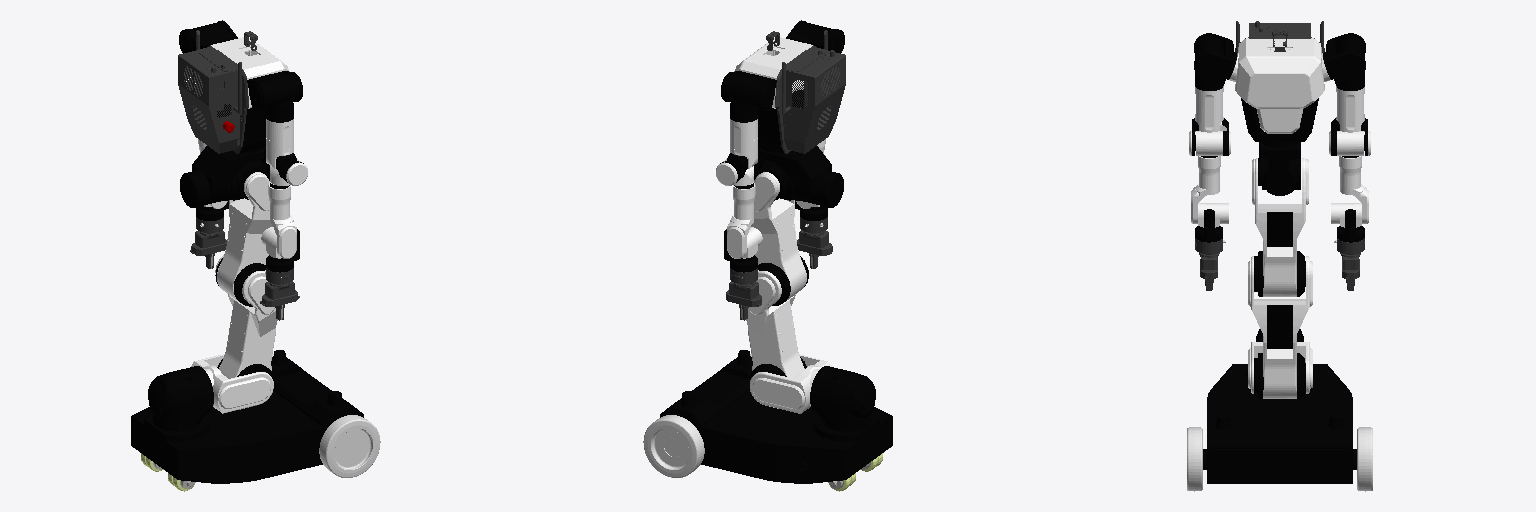
--- Render facts (derived) ---
Views: 3 orthographic renders of the robot side by side, from view 1: azimuth 30°, elevation 25°; view 2: azimuth 150°, elevation 25°; view 3: azimuth 270°, elevation 25°.
Robot: RBY1_A_v1.1 — 32 links, 31 joints (22 revolute, 2 continuous, 4 prismatic, 3 fixed); root link base; default pose: all joints at 0.
Links seen in each view (by area): view 1: base, link_torso_5, link_torso_2, link_torso_1, wheel_r, link_torso_4, link_torso_0, link_right_arm_2, link_right_arm_1, link_right_arm_3, link_right_arm_5, link_right_arm_4 (+5 smaller); view 2: base, link_torso_5, link_torso_2, link_torso_1, wheel_l, link_torso_4, link_torso_0, link_left_arm_2, link_left_arm_1, link_left_arm_3, link_left_arm_5, link_left_arm_4 (+5 smaller); view 3: base, link_torso_5, link_torso_1, link_torso_2, link_torso_4, link_right_arm_2, link_left_arm_2, link_right_arm_3, link_left_arm_3, link_right_arm_0, link_left_arm_0, link_right_arm_5 (+6 smaller).
Link boxes in pixels (box(x1,y1,x2,y2)): base: box(131, 350, 363, 491); link_torso_5: box(178, 30, 289, 153); link_torso_2: box(215, 172, 272, 306); link_torso_1: box(215, 255, 277, 407); wheel_r: box(319, 415, 380, 477); link_torso_4: box(180, 146, 269, 207); link_torso_0: box(191, 354, 273, 413); link_right_arm_2: box(264, 119, 307, 185); link_right_arm_1: box(260, 74, 297, 122); link_right_arm_3: box(267, 159, 300, 218); link_right_arm_5: box(261, 227, 299, 272); link_right_arm_4: box(270, 215, 296, 258); base: box(660, 350, 892, 491); link_torso_5: box(734, 30, 845, 153); link_torso_2: box(751, 172, 808, 305); link_torso_1: box(746, 259, 806, 379); wheel_l: box(643, 415, 704, 477); link_torso_4: box(757, 146, 843, 207); link_torso_0: box(750, 354, 831, 413); link_left_arm_2: box(716, 119, 759, 185); link_left_arm_1: box(726, 74, 763, 122); link_left_arm_3: box(723, 159, 756, 218); link_left_arm_5: box(724, 227, 762, 272); link_left_arm_4: box(727, 215, 753, 258); base: box(1203, 329, 1356, 483); link_torso_5: box(1227, 21, 1332, 145); link_torso_1: box(1248, 256, 1312, 398); link_torso_2: box(1252, 158, 1308, 296); link_torso_4: box(1259, 142, 1300, 195); link_right_arm_2: box(1189, 86, 1230, 155); link_left_arm_2: box(1329, 86, 1370, 155); link_right_arm_3: box(1195, 131, 1226, 187); link_left_arm_3: box(1333, 131, 1364, 187); link_right_arm_0: box(1194, 33, 1234, 84); link_left_arm_0: box(1325, 33, 1365, 84); link_right_arm_5: box(1195, 203, 1228, 242).
Size in the robot's own frame: 0.6626 by 0.58 by 1.47 metres.
30 mesh visuals loaded from 27 distinct referenced files (25 Collada DAE); not drawn: 2 (reference not matched to a file when rendering).

URDF robot description (RBY1_A_v1.1):
<?xml version="1.0"?>
<robot name="RBY1_A_v1.1">
    <mobile type="differential" xyz="0.228 0 0" rpy="0 0 0" joints="right_wheel left_wheel"
            params="0.53 0.1"/> <!-- wheel_base, wheel_radius -->

    <link name="base">
        <inertial>
            <mass value="60.08042639"/>
            <origin rpy="0 0 0" xyz="-0.06157942 -0.00142271 0.13513861"/>
            <inertia ixx="1.37742174" ixy="0.02521789" ixz="0.18565467" iyy="2.99386515" iyz="-0.00641869"
                     izz="3.76085052"/>
        </inertial>

        <visual>
            <geometry>
                <mesh filename="./meshes/base.dae"/>
            </geometry>
        </visual>
    </link>

    <link name="wheel_r">
        <inertial>
            <mass value="1.37783736"/>
            <origin rpy="0 0 0" xyz="0.0 -0.00073938 0.0"/>
            <inertia ixx="0.00426657" ixy="0.0" ixz="0.0" iyy="0.00811815" iyz="0.0" izz="0.00426657"/>
        </inertial>

        <visual>
            <geometry>
                <mesh filename="./meshes/WHEEL.dae"/>
            </geometry>
        </visual>
    </link>

    <link name="wheel_l">
        <inertial>
            <mass value="1.37783736"/>
            <origin rpy="0 0 0" xyz="0.0 0.00073938 0.0"/>
            <inertia ixx="0.00426657" ixy="0.0" ixz="0.0" iyy="0.00811815" iyz="0.0" izz="0.00426657"/>
        </inertial>

        <visual>
            <geometry>
                <mesh filename="./meshes/WHEEL.dae"/>
            </geometry>
        </visual>
    </link>

    <link name="link_torso_0">
        <inertial>
            <mass value="2.24282123"/>
            <origin rpy="0 0 0" xyz="-0.08848415 0.00021367 0.00000046"/>
            <inertia ixx="0.01413496" ixy="0.00092982" ixz="-0.00000010" iyy="0.01005357"
                     iyz="-0.00000008" izz="0.01892525"/>
        </inertial>

        <visual>
            <geometry>
                <mesh filename="./meshes/LINK_1.dae"/>
            </geometry>
        </visual>

        <collision>
            <origin xyz="-0.115 0 0" rpy="0 1.5708 0"/>
            <geometry>
                <capsule radius="0.105" length="0.230" coltype="1"/>
                <!-- <capsule sp="0.0 0.0 0.0" ep="-0.230 0.0 0.0" radius="0.105" length="1"/> -->
            </geometry>
        </collision>
    </link>

    <link name="link_torso_1">
        <inertial>
            <mass value="9.72162676"/>
            <origin rpy="0 0 0" xyz="0.00728955 -0.01728522 0.06911380"/>
            <inertia ixx="0.14862640" ixy="-0.00142621" ixz="-0.00951385" iyy="0.13854733"
                     iyz="-0.00975351" izz="0.02912982"/>
        </inertial>

        <visual>
            <geometry>
                <mesh filename="./meshes/LINK_2.dae"/>
            </geometry>
        </visual>

        <collision>
            <origin xyz="0.0100 0 0.2400" rpy="0 0 0"/>
            <geometry>
                <capsule radius="0.115" length="0.220" coltype="2"/>
                <!-- <capsule sp="0.01 0.0 0.130" ep="0.01 0.0 0.350" radius="0.115"/> -->
            </geometry>
        </collision>
    </link>

    <link name="link_torso_2">
        <inertial>
            <mass value="9.21691850"/>
            <origin rpy="0 0 0" xyz="0.00653835 -0.01769536 0.05636582"/>
            <inertia ixx="0.12162270" ixy="-0.00127910" ixz="-0.00831678" iyy="0.11589190"
                     iyz="-0.00873271" izz="0.03094484"/>
        </inertial>

        <visual>
            <geometry>
                <mesh filename="./meshes/LINK_3.dae"/>
            </geometry>
        </visual>

        <collision>
            <origin xyz="0.0250 0 0.2300" rpy="0 0 0"/>
            <geometry>
                <capsule radius="0.095" length="0.1600" coltype="4"/>
                <!-- <capsule sp="0.025 0.0 0.15" ep="0.025 0.0 0.310" radius="0.095"/> -->
            </geometry>
        </collision>
    </link>

    <link name="link_torso_3">
        <inertial>
            <mass value="4.18679196"/>
            <origin rpy="0 0 0" xyz="-0.00574156 -0.01725975 0.00005610"/>
            <inertia ixx="0.00849870" ixy="0.00040861" ixz="-0.00000263" iyy="0.00929513"
                     iyz="-0.00001243" izz="0.00955442"/>
        </inertial>

        <visual>
            <geometry>
                <mesh filename="./meshes/LINK_4.dae"/>
            </geometry>
        </visual>
    </link>

    <link name="link_torso_4">
        <inertial>
            <mass value="4.45566276"/>
            <origin rpy="0 0 0" xyz="-0.09097095 0.00005085 0.02601950"/>
            <inertia ixx="0.01545991" ixy="0.00001883" ixz="-0.00780349" iyy="0.02550888" iyz="0.00000715"
                     izz="0.01952563"/>
        </inertial>

        <visual>
            <geometry>
                <mesh filename="./meshes/LINK_5.dae"/>
            </geometry>
        </visual>


        <collision>
            <origin xyz="-0.070000 0 0.038500" rpy="0 1.5708 0"/>
            <geometry>
                <capsule radius="0.105" length="0.2" coltype="8"/>
                <!-- <capsule sp="0.03 0.0 0.0385" ep="-0.170 0.0 0.0385" radius="0.105"/> -->
            </geometry>
        </collision>
    </link>

    <link name="link_torso_5">
        <inertial>
            <mass value="12.59012341"/>
            <origin rpy="0 0 0" xyz="-0.01338376 0.00025621 -0.03272487"/>
            <inertia ixx="0.21375525" ixy="0.00051520" ixz="0.00880124" iyy="0.16562090" iyz="-0.00023995"
                     izz="0.13308879"/>
        </inertial>

        <visual>
            <geometry>
                <mesh filename="./meshes/LINK_6.dae"/>
            </geometry>
        </visual>

        <collision>
            <origin xyz="0 0 0.0075" rpy="0 0 0"/>
            <geometry>
                <capsule radius="0.155" length="0.1350" coltype="16"/>
                <!-- <capsule sp="0.0 0.0 -0.06" ep="0.0 0.0 0.075" radius="0.155"/> -->
            </geometry>
        </collision>
    </link>

    <link name="link_right_arm_0">
        <inertial>
            <mass value="1.26164242"/>
            <origin rpy="0 0 0" xyz="-0.00316662 0.03437181 -0.00000030"/>
            <inertia ixx="0.00230621" ixy="0.00039024" ixz="-0.00000256" iyy="0.00426418" iyz="0.00000118"
                     izz="0.00432156"/>
        </inertial>

        <visual>
            <geometry>
                <mesh filename="./meshes/LINK_7.dae"/>
            </geometry>
        </visual>

        <collision>
            <origin xyz="-0.015 0.018 -0.008" rpy="0 1.5708 0"/>
            <geometry>
                <capsule radius="0.075" length="0.0700"/>
            </geometry>
        </collision>
    </link>

    <link name="link_right_arm_1">
        <inertial>
            <mass value="2.27287031"/>
            <origin rpy="0 0 0" xyz="-0.00307855 -0.00124741 -0.01294324"/>
            <inertia ixx="0.00388490" ixy="-0.00001477" ixz="0.00011465" iyy="0.00447034"
                     iyz="-0.00010023" izz="0.00288341"/>
        </inertial>

        <visual>
            <geometry>
                <mesh filename="./meshes/LINK_8.dae"/>
            </geometry>
        </visual>

        <collision>
            <origin xyz="0 0 -0.1000" rpy="0 0 0"/>
            <geometry>
                <capsule radius="0.05" length="0.2" coltype="32"/>
                <!-- <capsule sp="0.0 0.0 0.0" ep="0.0 0.0 -0.200" radius="0.050"/> -->
            </geometry>
        </collision>
    </link>

    <link name="link_right_arm_2">
        <inertial>
            <mass value="2.46909439"/>
            <origin rpy="0 0 0" xyz="0.00115434 -0.00196635 -0.16192524"/>
            <inertia ixx="0.00980269" ixy="0.00005871" ixz="0.00051888" iyy="0.00924560" iyz="-0.00045932"
                     izz="0.00329867"/>
        </inertial>

        <visual>
            <geometry>
                <mesh filename="./meshes/LINK_9.dae"/>
            </geometry>
        </visual>

        <collision>
            <origin xyz="0.0260 0 -0.2760" rpy="1.5708 0 0"/>
            <geometry>
                <capsule radius="0.05" length="0.080000" coltype="64"/>
                <!-- <capsule sp="0.026 -0.040 -0.276" ep="0.026 0.040 -0.276" radius="0.05"/> -->
            </geometry>
        </collision>
    </link>

    <link name="link_right_arm_3">
        <inertial>
            <mass value="2.26099493"/>
            <origin rpy="0 0 0" xyz="-0.01603135 -0.00692891 -0.04549811"/>
            <inertia ixx="0.00822606" ixy="0.00027620" ixz="-0.00156570" iyy="0.00844870" iyz="0.00076157"
                     izz="0.00236614"/>
        </inertial>

        <visual>
            <geometry>
                <mesh filename="./meshes/LINK_10.dae"/>
            </geometry>
        </visual>

        <collision>
            <origin xyz="-0.0310 0 -0.1075" rpy="0 0 0"/>
            <geometry>
                <capsule radius="0.04" length="0.1150" coltype="128" colaffinity="30"/>
                <!-- <capsule sp="-0.031 0.0 -0.05" ep="-0.031 0.0 -0.165" radius="0.04"/> -->
            </geometry>
        </collision>
    </link>

    <link name="link_right_arm_4">
        <inertial>
            <mass value="0.42508710"/>
            <origin rpy="0 0 0" xyz="-0.00000011 -0.02696036 0.06182110"/>
            <inertia ixx="0.00082466" ixy="0.0" ixz="0.0" iyy="0.00075398" iyz="-0.00025338"
                     izz="0.00039794"/>
        </inertial>

        <visual>
            <geometry>
                <mesh filename="./meshes/LINK_11.dae"/>
            </geometry>
        </visual>

        <collision>
            <origin xyz="0 -0.038 0.0175" rpy="0 0 0"/>
            <geometry>
                <capsule radius="0.035" length="0.095" coltype="256" colaffinity="30"/>
            </geometry>
        </collision>
    </link>

    <link name="link_right_arm_5">
        <inertial>
            <mass value="1.60506693"/>
            <origin rpy="0 0 0" xyz="0.00592642 -0.00537804 -0.02584713"/>
            <inertia ixx="0.00247557" ixy="-0.00004984" ixz="-0.00009861" iyy="0.00268241"
                     iyz="0.00021452" izz="0.00166724"/>
        </inertial>

        <visual>
            <geometry>
                <mesh filename="./meshes/LINK_12_v1.1.dae"/>
            </geometry>
        </visual>

        <collision>
            <origin xyz="0 0 -0.1" rpy="0 0 0"/>
            <geometry>
                <capsule radius="0.075" length="0.25" coltype="512" colaffinity="31"/>
                <!-- <capsule sp="0.0 0.0 0.002" ep="0.0 0.0 -0.050" radius="0.075"/> -->
            </geometry>
        </collision>
    </link>

    <link name="link_right_arm_6">
        <inertial>
            <mass value="0.42751673"/>
            <origin rpy="0 0 0" xyz="0.00024951 -0.00019562 -0.10711314"/>
            <inertia ixx="0.00029613" ixy="-0.00000186" ixz="-0.00000157" iyy="0.00030651"
                     iyz="0.00000221" izz="0.00048946"/>
        </inertial>

        <visual>
            <geometry>
                <mesh filename="./meshes/LINK_13_v1.1.dae"/>
            </geometry>
        </visual>
    </link>

    <link name="link_left_arm_0">
        <inertial>
            <mass value="1.26164242"/>
            <origin rpy="0 0 0" xyz="-0.00316662 -0.03437151 0.00000242"/>
            <inertia ixx="0.00230624" ixy="-0.00039022" ixz="0.00000269" iyy="0.00426418" iyz="0.00000108"
                     izz="0.00432159"/>
        </inertial>

        <visual>
            <geometry>
                <mesh filename="./meshes/LINK_14.dae"/>
            </geometry>
        </visual>

        <collision>
            <origin xyz="-0.015 -0.018 -0.008" rpy="0 1.5708 0"/>
            <geometry>
                <capsule radius="0.075" length="0.0700"/>
            </geometry>
        </collision>
    </link>

    <link name="link_left_arm_1">
        <inertial>
            <mass value="1.88138658"/>
            <origin rpy="0 0 0" xyz="-0.00183470 0.00040596 -0.01008733"/>
            <inertia ixx="0.00295838" ixy="-0.00001176" ixz="0.00006949" iyy="0.00355208" iyz="0.00004467"
                     izz="0.00230558"/>
        </inertial>

        <visual>
            <geometry>
                <mesh filename="./meshes/LINK_15.dae"/>
            </geometry>
        </visual>

        <collision>
            <origin xyz="0 0 -0.1000" rpy="0 0 0"/>
            <geometry>
                <capsule radius="0.050" length="0.2000" colaffinity="768"/>
            </geometry>
        </collision>
    </link>

    <link name="link_left_arm_2">
        <inertial>
            <mass value="2.35634437"/>
            <origin rpy="0 0 0" xyz="0.00066086 -0.00038583 -0.15742972"/>
            <inertia ixx="0.00842712" ixy="0.00000247" ixz="0.00036948" iyy="0.00802311" iyz="-0.00006550"
                     izz="0.00295678"/>
        </inertial>

        <visual>
            <geometry>
                <mesh filename="./meshes/LINK_16.dae"/>
            </geometry>
        </visual>

        <collision>
            <origin xyz="0.0260 0 -0.2760" rpy="1.5708 0 0"/>
            <geometry>
                <capsule radius="0.05" length="0.080000" colaffinity="768"/>
            </geometry>
        </collision>
    </link>

    <link name="link_left_arm_3">
        <inertial>
            <mass value="2.00905891"/>
            <origin rpy="0 0 0" xyz="-0.01565298 0.00793126 -0.04997943"/>
            <inertia ixx="0.00756474" ixy="-0.00026771" ixz="-0.00155419" iyy="0.00772758"
                     iyz="-0.00084364" izz="0.00199754"/>
        </inertial>

        <visual>
            <geometry>
                <mesh filename="./meshes/LINK_17.dae"/>
            </geometry>
        </visual>

        <collision>
            <origin xyz="-0.0310 0 -0.1075" rpy="0 0 0"/>
            <geometry>
                <capsule radius="0.04" length="0.1150" colaffinity="926"/>
            </geometry>
        </collision>
    </link>

    <link name="link_left_arm_4">
        <inertial>
            <mass value="0.42508710"/>
            <origin rpy="0 0 0" xyz="0.00000011 0.02696036 0.06182110"/>
            <inertia ixx="0.00082466" ixy="0.0" ixz="0.0" iyy="0.00075398" iyz="0.00025338"
                     izz="0.00039794"/>
        </inertial>

        <visual>
            <geometry>
                <mesh filename="./meshes/LINK_18.dae"/>
            </geometry>
        </visual>

        <collision>
            <origin xyz="0 0.038000 0.017500" rpy="0 0 0"/>
            <geometry>
                <capsule radius="0.035" length="0.095000" colaffinity="1022"/>
            </geometry>
        </collision>
    </link>

    <link name="link_left_arm_5">
        <inertial>
            <mass value="1.60424243"/>
            <origin rpy="0 0 0" xyz="0.00592398 -0.01167056 -0.02584035"/>
            <inertia ixx="0.00247523" ixy="-0.00004992" ixz="-0.00009867" iyy="0.00268221"
                     iyz="0.00021464" izz="0.00166703"/>
        </inertial>

        <visual>
            <geometry>
                <mesh filename="./meshes/LINK_19_v1.1.dae"/>
            </geometry>
        </visual>

        <collision>
            <origin xyz="0 0 -0.1" rpy="0 0 0"/>
            <geometry>
                <capsule radius="0.075" length="0.25" colaffinity="1023"/>
            </geometry>
        </collision>
    </link>

    <link name="link_left_arm_6">
        <inertial>
            <mass value="0.42751673"/>
            <origin rpy="0 0 0" xyz="-0.00024951 0.00019562 -0.10711314"/>
            <inertia ixx="0.00029613" ixy="-0.00000186" ixz="0.00000157" iyy="0.00030651"
                     iyz="-0.00000221" izz="0.00048946"/>
        </inertial>

        <visual>
            <geometry>
                <mesh filename="./meshes/LINK_20_v1.1.dae"/>
            </geometry>
        </visual>
    </link>

    <link name="ee_right">
        <inertial>
            <mass value="0.46704998"/>
            <origin rpy="0 0 0" xyz="0.00212703 0.00000615 -0.04287176"/>
            <inertia ixx="0.00032067" ixy="0.00002383" ixz="-0.00000785" iyy="0.00059559"
                     iyz="-0.00000007" izz="0.00052732"/>
        </inertial>

        <visual>
            <geometry>
                <mesh filename="./meshes/EE_BODY.dae"/>
            </geometry>
        </visual>
    </link>

    <link name="ee_finger_r1">
        <inertial>
            <mass value="0.03326999"/>
            <origin rpy="0 0 0" xyz="0.00278346 -0.00000329 -0.02570112"/>
            <inertia ixx="0.00001231" ixy="0.0" ixz="-0.00000042" iyy="0.00001066" iyz="0.0"
                     izz="0.00000224"/>
        </inertial>

        <visual>
            <geometry>
                <mesh filename="./meshes/EE_FINGER.dae"/>
            </geometry>
        </visual>
    </link>

    <link name="ee_finger_r2">
        <inertial>
            <mass value="0.03326999"/>
            <origin rpy="0 0 0" xyz="0.00278346 -0.00000329 -0.02570112"/>
            <inertia ixx="0.00001231" ixy="0.0" ixz="-0.00000042" iyy="0.00001066" iyz="0.0"
                     izz="0.00000224"/>
        </inertial>

        <visual>
            <geometry>
                <mesh filename="./meshes/EE_FINGER.dae"/>
            </geometry>
        </visual>
    </link>

    <link name="ee_left">
        <inertial>
            <mass value="0.46704998"/>
            <origin rpy="0 0 0" xyz="0.00212703 0.00000615 -0.04287176"/>
            <inertia ixx="0.00032067" ixy="0.00002383" ixz="-0.00000785" iyy="0.00059559"
                     iyz="-0.00000007" izz="0.00052732"/>
        </inertial>

        <visual>
            <geometry>
                <mesh filename="./meshes/EE_BODY.dae"/>
            </geometry>
        </visual>
    </link>

    <link name="ee_finger_l1">
        <inertial>
            <mass value="0.03326999"/>
            <origin rpy="0 0 0" xyz="0.00278346 -0.00000329 -0.02570112"/>
            <inertia ixx="0.00001231" ixy="0.0" ixz="-0.00000042" iyy="0.00001066" iyz="0.0"
                     izz="0.00000224"/>
        </inertial>

        <visual>
            <geometry>
                <mesh filename="./meshes/EE_FINGER.dae"/>
            </geometry>
        </visual>
    </link>

    <link name="ee_finger_l2">
        <inertial>
            <mass value="0.03326999"/>
            <origin rpy="0 0 0" xyz="0.00278346 -0.00000329 -0.02570112"/>
            <inertia ixx="0.00001231" ixy="0.0" ixz="-0.00000042" iyy="0.00001066" iyz="0.0"
                     izz="0.00000224"/>
        </inertial>

        <visual>
            <geometry>
                <mesh filename="./meshes/EE_FINGER.dae"/>
            </geometry>
        </visual>
    </link>

    <link name="link_head_0">
        <inertial>
            <mass value="0.07582110"/>
            <origin rpy="0 0 0" xyz="-0.00800549 0.0 -0.01100308"/>
            <inertia ixx="0.00003307" ixy="0.0" ixz="-0.00000290" iyy="0.00002209" iyz="0.0"
                     izz="0.00003796"/>
        </inertial>

        <visual>
            <geometry>
                <mesh filename="./meshes/PAN_TILT_1.dae"/>
            </geometry>
        </visual>
    </link>

    <link name="link_head_1">
        <inertial>
            <mass value="0.07450580"/>
            <origin rpy="0 0 0" xyz="-0.01150679 -0.00114270 -0.00031579"/>
            <inertia ixx="0.00001850" ixy="-0.00000035" ixz="0.00000203" iyy="0.00002451"
                     iyz="-0.00000010" izz="0.00002062"/>
        </inertial>

        <visual>
            <geometry>
                <mesh filename="./meshes/PAN_TILT_2.dae"/>
            </geometry>
        </visual>
    </link>

    <link name="link_head_2">
        <inertial>
            <mass value="0.03585374"/>
            <origin rpy="0 0 0" xyz="-0.00081966 0.00099024 0.02283704"/>
            <inertia ixx="0.00002046" ixy="0.00000001" ixz="-0.00000027" iyy="0.00001044" iyz="0.00000076"
                     izz="0.00001291"/>
        </inertial>

        <visual>
            <geometry>
                <mesh filename="./meshes/PAN_TILT_3.dae"/>
            </geometry>
        </visual>
    </link>


    <!-- Joints -->
    <joint name="right_wheel" type="continuous">
        <parent link="base"/>
        <child link="wheel_r"/>
        <origin rpy="0.0 0.0 0.0" xyz="0.228 -0.265 0.1"/>
        <axis xyz="0 -1 0"/>
        <limit velocity="15.707963268" acceleration="3.141592"/>
    </joint>

    <joint name="left_wheel" type="continuous">
        <parent link="base"/>
        <child link="wheel_l"/>
        <origin rpy="0.0 0.0 0.0" xyz="0.228 0.265 0.1"/>
        <axis xyz="0 -1 0"/>
        <limit velocity="15.707963268" acceleration="3.141592"/>
    </joint>

    <joint name="torso_0" type="revolute">
        <parent link="base"/>
        <child link="link_torso_0"/>
        <origin rpy="0.0 0.0 0.0" xyz="0.0 0.0 0.2805"/>
        <axis xyz="1 0 0"/>
        <!-- Nm, rad/s^2, rad/s, (min) rad, (max) rad -->
        <!-- 270Nm, 5rad/s^2, 120deg/s, -15deg, 15deg -->
        <limit effort="270.0"
               acceleration="5.0"
               velocity="2.09439510"
               lower="-0.261799388"
               upper="0.261799388"
        />
    </joint>

    <joint name="torso_1" type="revolute">
        <parent link="link_torso_0"/>
        <child link="link_torso_1"/>
        <origin rpy="0.0 0.0 0.0" xyz="0.0 0.0 0.0"/>
        <axis xyz="0 1 0"/>
        <!-- Nm, rad/s^2, rad/s, (min) rad, (max) rad -->
        <!-- 270Nm, 5rad/s^2, 120deg/s, -30deg, 90deg -->
        <limit effort="270.0"
               acceleration="5.0"
               velocity="2.09439510"
               lower="-0.523598776"
               upper="1.570796327"
        />
    </joint>

    <joint name="torso_2" type="revolute">
        <parent link="link_torso_1"/>
        <child link="link_torso_2"/>
        <origin rpy="0.0 0.0 0.0" xyz="0.0 0.0 0.350"/>
        <axis xyz="0 1 0"/>
        <!-- Nm, rad/s^2, rad/s, (min) rad, (max) rad -->
        <!-- 270Nm, 5rad/s^2, 120deg/s, -150deg, 90deg -->
        <limit effort="270.0"
               acceleration="5.0"
               velocity="2.09439510"
               lower="-2.617993878"
               upper="1.570796327"
        />
    </joint>

    <joint name="torso_3" type="revolute">
        <parent link="link_torso_2"/>
        <child link="link_torso_3"/>
        <origin rpy="0.0 0.0 0.0" xyz="0.0 0.0 0.350"/>
        <axis xyz="0 1 0"/>
        <!-- Nm, rad/s^2, rad/s, (min) rad, (max) rad -->
        <!-- 120Nm, 5rad/s^2, 180deg/s, -45deg, 90deg -->
        <limit effort="120.0"
               acceleration="5.0"
               velocity="3.141592654"
               lower="-0.785398163"
               upper="1.570796327"
        />
    </joint>

    <joint name="torso_4" type="revolute">
        <parent link="link_torso_3"/>
        <child link="link_torso_4"/>
        <origin rpy="0.0 0.0 0.0" xyz="0.0 0.0 0.0"/>
        <axis xyz="1 0 0"/>
        <!-- Nm, rad/s^2, rad/s, (min) rad, (max) rad -->
        <!-- 120Nm, 5rad/s^2, 180deg/s, -30deg, 30deg -->
        <limit effort="120.0"
               acceleration="5.0"
               velocity="3.141592654"
               lower="-0.523598776"
               upper="0.523598776"
        />
    </joint>

    <joint name="torso_5" type="revolute">
        <parent link="link_torso_4"/>
        <child link="link_torso_5"/>
        <origin rpy="0.0 0.0 0.0" xyz="0.0 0.0 0.309426548461"/>
        <axis xyz="0 0 1"/>
        <!-- Nm, rad/s^2, rad/s, (min) rad, (max) rad -->
        <!-- 120Nm, 5rad/s^2, 180deg/s, -135deg, 135deg -->
        <limit effort="120.0"
               acceleration="5.0"
               velocity="3.141592654"
               lower="-2.35619449"
               upper="2.35619449"
        />
    </joint>

    <joint name="right_arm_0" type="revolute">
        <parent link="link_torso_5"/>
        <child link="link_right_arm_0"/>
        <origin rpy="0.0 0.0 0.0" xyz="0.0 -0.220 0.080073451539 "/>
        <axis xyz="0.0 0.93969262 -0.34202014"/>
        <!-- Nm, rad/s^2, rad/s, (min) rad, (max) rad -->
        <!-- 70Nm, 10rad/s^2, 180deg/s, -180deg, 180deg -->
        <limit effort="70.0"
               acceleration="10.0"
               velocity="3.141592654"
               lower="-3.141592654"
               upper="3.141592654"
        />
    </joint>

    <joint name="right_arm_1" type="revolute">
        <parent link="link_right_arm_0"/>
        <child link="link_right_arm_1"/>
        <origin rpy="0.0 0.0 0.0" xyz="0.0 0.0 0.0"/>
        <axis xyz="1 0 0"/>
        <!-- Nm, rad/s^2, rad/s, (min) rad, (max) rad -->
        <!-- 70Nm, 10rad/s^2, 180deg/s, -180deg, 1deg -->
        <limit effort="70.0"
               acceleration="10.0"
               velocity="3.141592654"
               lower="-3.141592654"
               upper="0.017453293"
        />
    </joint>

    <joint name="right_arm_2" type="revolute">
        <parent link="link_right_arm_1"/>
        <child link="link_right_arm_2"/>
        <origin rpy="0.0 0.0 0.0" xyz="0.0 0.0 0.0"/>
        <axis xyz="0 0 1"/>
        <!-- Nm, rad/s^2, rad/s, (min) rad, (max) rad -->
        <!-- 70Nm, 10rad/s^2, 180deg/s, -180deg, 180deg -->
        <limit effort="70.0"
               acceleration="10.0"
               velocity="3.141592654"
               lower="-3.141592654"
               upper="3.141592654"
        />
    </joint>

    <joint name="right_arm_3" type="revolute">
        <parent link="link_right_arm_2"/>
        <child link="link_right_arm_3"/>
        <origin rpy="0.0 0.0 0.0" xyz="0.031 0.0 -0.276"/>
        <axis xyz="0 1 0"/>
        <!-- Nm, rad/s^2, rad/s, (min) rad, (max) rad -->
        <!-- 40Nm, 10rad/s^2, 180deg/s, -150deg, 1deg -->
        <limit effort="40.0"
               acceleration="10.0"
               velocity="3.141592654"
               lower="-2.617993878"
               upper="0.017453293"
        />
    </joint>

    <joint name="right_arm_4" type="revolute">
        <parent link="link_right_arm_3"/>
        <child link="link_right_arm_4"/>
        <origin rpy="0.0 0.0 0.0" xyz="-0.031 0.0 -0.256"/>
        <axis xyz="0 0 1"/>
        <!-- Nm, rad/s^2, rad/s, (min) rad, (max) rad -->
        <!-- 10Nm, 10rad/s^2, 360deg/s, -180deg, 180deg -->
        <limit effort="10.0"
               acceleration="10.0"
               velocity="6.283185308"
               lower="-3.141592654"
               upper="3.141592654"
        />
    </joint>

    <joint name="right_arm_5" type="revolute">
        <parent link="link_right_arm_4"/>
        <child link="link_right_arm_5"/>
        <origin rpy="0.0 0.0 0.0" xyz="0.0 0.0 0.0"/>
        <axis xyz="0 1 0"/>
        <!-- Nm, rad/s^2, rad/s, (min) rad, (max) rad -->
        <!-- 10Nm, 10rad/s^2, 360deg/s, -90deg, 110deg -->
        <limit effort="10.0"
               acceleration="10.0"
               velocity="6.283185308"
               lower="-1.570796327"
               upper="1.919862177"
        />
    </joint>

    <joint name="right_arm_6" type="revolute">
        <parent link="link_right_arm_5"/>
        <child link="link_right_arm_6"/>
        <origin rpy="0.0 0.0 0.0" xyz="0.0 0.0 0.0"/>
        <axis xyz="0 0 1"/>
        <!-- Nm, rad/s^2, rad/s, (min) rad, (max) rad -->
        <!-- 8Nm, 10rad/s^2, 120deg/s, -155deg, 155deg -->
        <limit effort="8.0"
               acceleration="10.0"
               velocity="2.094395102"
               lower="-2.705260340"
               upper="2.705260340"
        />
    </joint>

    <joint name="left_arm_0" type="revolute">
        <parent link="link_torso_5"/>
        <child link="link_left_arm_0"/>
        <origin rpy="0.0 0.0 0.0" xyz="0.0 0.220 0.080073452 "/>
        <axis xyz="0.0 0.93969262 0.34202014"/>
        <!-- Nm, rad/s^2, rad/s, (min) rad, (max) rad -->
        <!-- 70Nm, 10rad/s^2, 180deg/s, -180deg, 180deg -->
        <limit effort="70.0"
               acceleration="10.0"
               velocity="3.141592654"
               lower="-3.141592654"
               upper="3.141592654"
        />
    </joint>

    <joint name="left_arm_1" type="revolute">
        <parent link="link_left_arm_0"/>
        <child link="link_left_arm_1"/>
        <origin rpy="0.0 0.0 0.0" xyz="0.0 0.0 0.0"/>
        <axis xyz="1 0 0"/>
        <!-- Nm, rad/s^2, rad/s, (min) rad, (max) rad -->
        <!-- 70Nm, 10rad/s^2, 180deg/s, -1deg, 180deg -->
        <limit effort="70.0"
               acceleration="10.0"
               velocity="3.141592654"
               lower="-0.017453293"
               upper="3.141592654"
        />
    </joint>

    <joint name="left_arm_2" type="revolute">
        <parent link="link_left_arm_1"/>
        <child link="link_left_arm_2"/>
        <origin rpy="0.0 0.0 0.0" xyz="0.0 0.0 0.0"/>
        <axis xyz="0 0 1"/>
        <!-- Nm, rad/s^2, rad/s, (min) rad, (max) rad -->
        <!-- 70Nm, 10rad/s^2, 180deg/s, -180deg, 180deg -->
        <limit effort="70.0"
               acceleration="10.0"
               velocity="3.141592654"
               lower="-3.141592654"
               upper="3.141592654"
        />
    </joint>

    <joint name="left_arm_3" type="revolute">
        <parent link="link_left_arm_2"/>
        <child link="link_left_arm_3"/>
        <origin rpy="0.0 0.0 0.0" xyz="0.031 0.0 -0.276"/>
        <axis xyz="0 1 0"/>
        <!-- Nm, rad/s^2, rad/s, (min) rad, (max) rad -->
        <!-- 40Nm, 10rad/s^2, 180deg/s, -150deg, 1deg -->
        <limit effort="40.0"
               acceleration="10.0"
               velocity="3.141592654"
               lower="-2.617993878"
               upper="0.017453293"
        />
    </joint>

    <joint name="left_arm_4" type="revolute">
        <parent link="link_left_arm_3"/>
        <child link="link_left_arm_4"/>
        <origin rpy="0.0 0.0 0.0" xyz="-0.031 0.0 -0.256"/>
        <axis xyz="0 0 1"/>
        <!-- Nm, rad/s^2, rad/s, (min) rad, (max) rad -->
        <!-- 10Nm, 10rad/s^2, 360deg/s, -180deg, 180deg -->
        <limit effort="10.0"
               acceleration="10.0"
               velocity="6.283185308"
               lower="-3.141592654"
               upper="3.141592654"
        />
    </joint>

    <joint name="left_arm_5" type="revolute">
        <parent link="link_left_arm_4"/>
        <child link="link_left_arm_5"/>
        <origin rpy="0.0 0.0 0.0" xyz="0.0 0.0 0.0"/>
        <axis xyz="0 1 0"/>
        <!-- Nm, rad/s^2, rad/s, (min) rad, (max) rad -->
        <!-- 10Nm, 10rad/s^2, 360deg/s, -90deg, 110deg -->
        <limit effort="10.0"
               acceleration="10.0"
               velocity="6.283185308"
               lower="-1.570796327"
               upper="1.919862177"
        />
    </joint>

    <joint name="left_arm_6" type="revolute">
        <parent link="link_left_arm_5"/>
        <child link="link_left_arm_6"/>
        <origin rpy="0.0 0.0 0.0" xyz="0.0 0.0 0.0"/>
        <axis xyz="0 0 1"/>
        <!-- Nm, rad/s^2, rad/s, (min) rad, (max) rad -->
        <!-- 8Nm, 10rad/s^2, 120deg/s, -155deg, 155deg -->
        <limit effort="8.0"
               acceleration="10.0"
               velocity="2.094395102"
               lower="-2.705260340"
               upper="2.705260340"
        />
    </joint>

    <joint name="tool_right" type="fixed">
        <parent link="link_right_arm_6"/>
        <child link="ee_right"/>
        <origin rpy="0.0 0.0 0.0" xyz="0.0 0.0 -0.1261"/>
        <axis xyz="0 0 1"/>
    </joint>

    <joint name="gripper_finger_r1" type="prismatic" in_model_type="fixed">
        <parent link="ee_right"/>
        <child link="ee_finger_r1"/>
        <origin rpy="0.0 0.0 0.0" xyz="0.003 0.0 -0.075"/>
        <axis xyz="-1 0 0"/>
        <limit effort="1000" velocity="0.05" lower="-0.05" upper="0"/>
    </joint>

    <joint name="gripper_finger_r2" type="prismatic" in_model_type="fixed">
        <parent link="ee_right"/>
        <child link="ee_finger_r2"/>
        <origin rpy="0.0 0.0 3.1415926535" xyz="-0.003 0.0 -0.075"/>
        <axis xyz="1 0 0"/>
        <limit effort="1000" velocity="0.05" lower="0" upper="0.05"/>
    </joint>

    <joint name="tool_left" type="fixed">
        <parent link="link_left_arm_6"/>
        <child link="ee_left"/>
        <origin rpy="0.0 0.0 0" xyz="0.0 0.0 -0.1261"/>
        <axis xyz="0 0 1"/>
    </joint>

    <joint name="gripper_finger_l1" type="prismatic" in_model_type="fixed">
        <parent link="ee_left"/>
        <child link="ee_finger_l1"/>
        <origin rpy="0.0 0.0 0.0" xyz="0.003 0.0 -0.075"/>
        <axis xyz="-1 0 0"/>
        <limit effort="1000" velocity="0.05" lower="-0.05" upper="0"/>
    </joint>

    <joint name="gripper_finger_l2" type="prismatic" in_model_type="fixed">
        <parent link="ee_left"/>
        <child link="ee_finger_l2"/>
        <origin rpy="0.0 0.0 3.1415926535" xyz="-0.003 0.0 -0.075"/>
        <axis xyz="1 0 0"/>
        <limit effort="1000" velocity="0.05" lower="0" upper="0.05"/>
    </joint>

    <joint name="head_base" type="fixed">
        <parent link="link_torso_5"/>
        <child link="link_head_0"/>
        <origin rpy="0.0 0.0 0.0" xyz="0.022 0.0 0.120073451525"/>
        <axis xyz="0 0 1"/>
    </joint>

    <joint name="head_0" type="revolute">
        <parent link="link_head_0"/>
        <child link="link_head_1"/>
        <origin rpy="0.0 0.0 0.0" xyz="0.0 0.0 0.02"/>
        <axis xyz="0 0 1"/>
        <limit effort="1000" velocity="3.14" lower="-0.523" upper="0.523"/>
    </joint>

    <joint name="head_1" type="revolute">
        <parent link="link_head_1"/>
        <child link="link_head_2"/>
        <origin rpy="0.0 0.0 0.0" xyz="0.0 0.0 0.0"/>
        <axis xyz="0 1 0"/>
        <limit effort="1000" velocity="3.14" lower="-0.35" upper="1.57"/>
    </joint>

    <!-- <joint name="head_mount" type="fixed">
      <parent link="link_head_2"/>
      <child link="Arbitrary device"/>
      <origin rpy="0.0 0.0 0.0" xyz="0.022 0.0 0.04"/>
      <axis xyz="0 0 1"/>
    </joint> -->

</robot>
